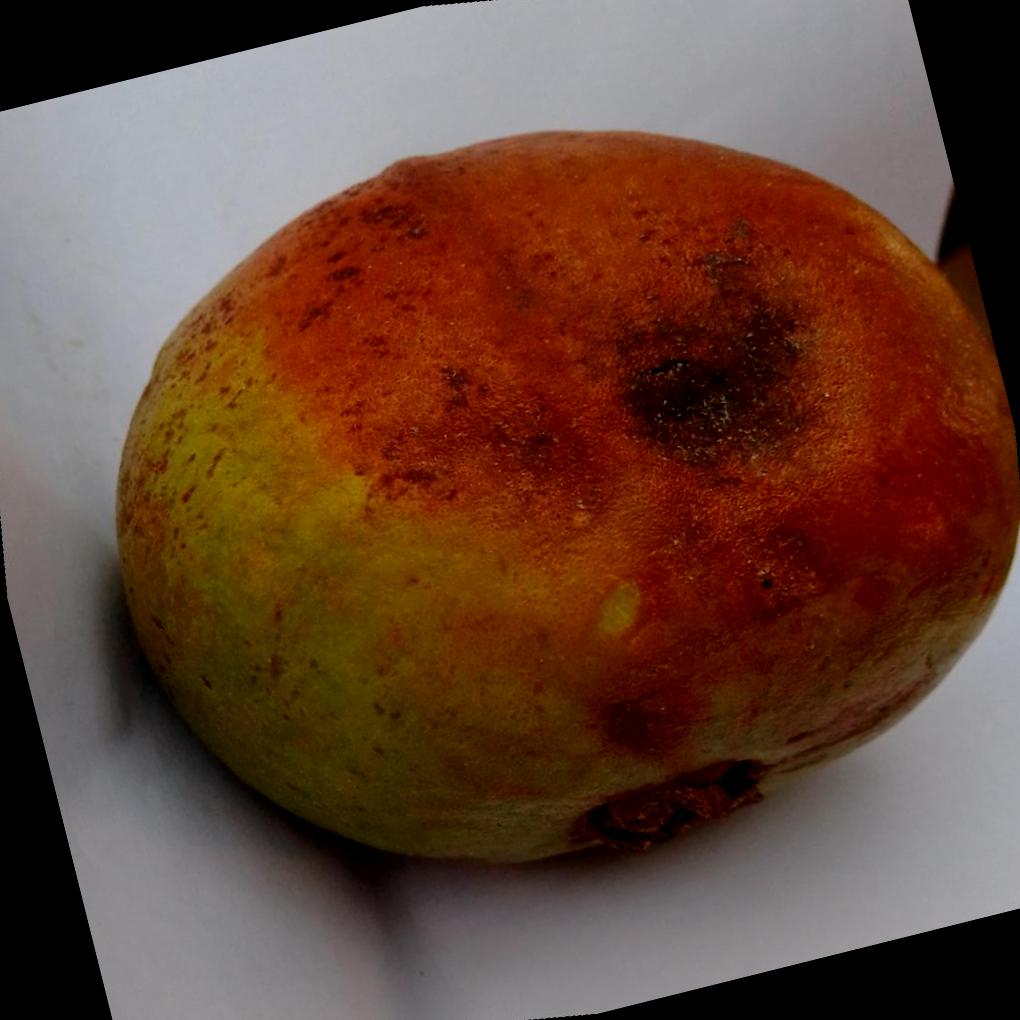FreshOrange: (110, 128, 1020, 867)
